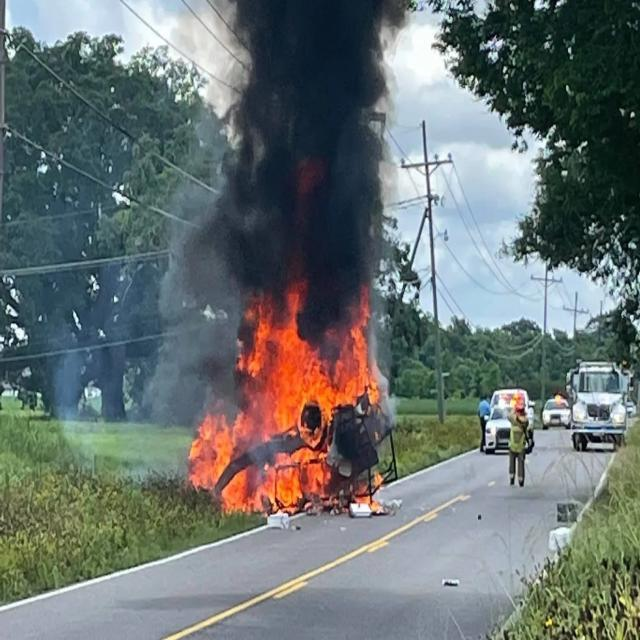Fire: (189, 316, 376, 520)
Smoke: (139, 0, 410, 315), (36, 315, 190, 477)
